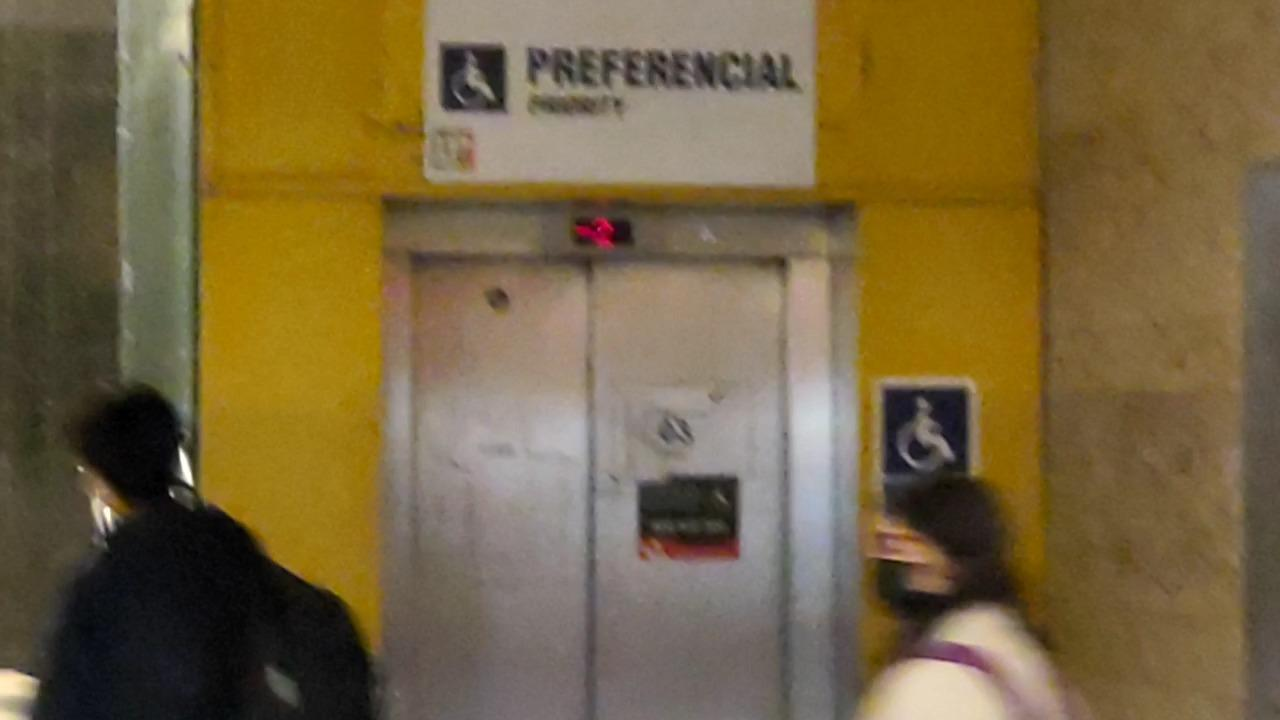handicapped symbol: (895, 396, 954, 476), (449, 49, 497, 110)
